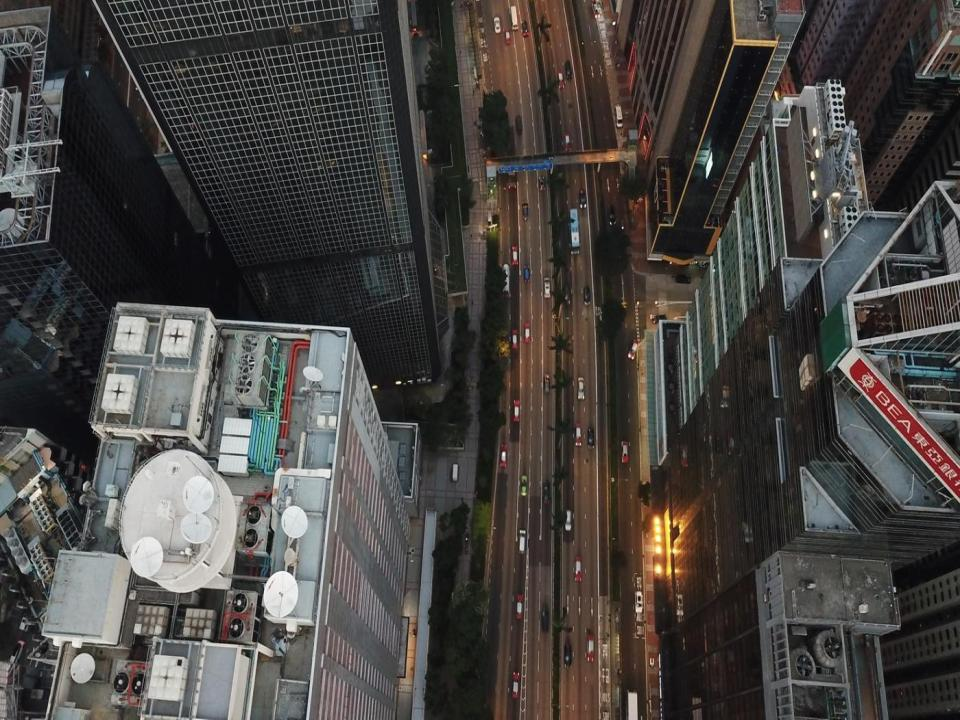bus: (614, 104, 622, 127)
car: (628, 339, 639, 360), (586, 634, 594, 661), (541, 608, 549, 632), (564, 644, 572, 668), (577, 376, 585, 399), (634, 590, 642, 613), (574, 424, 582, 446), (543, 478, 550, 503), (512, 672, 519, 697), (513, 398, 520, 422), (564, 60, 572, 80), (608, 204, 616, 224), (500, 444, 507, 466), (574, 558, 581, 580), (543, 277, 550, 298), (556, 70, 564, 88), (516, 594, 522, 618), (587, 428, 594, 448), (621, 442, 628, 462), (521, 202, 529, 219), (515, 115, 522, 134), (521, 21, 529, 37), (511, 329, 518, 347), (520, 475, 526, 496), (564, 132, 571, 150), (579, 190, 586, 208), (652, 314, 666, 323), (524, 322, 530, 342), (564, 285, 570, 305), (512, 246, 518, 265), (503, 28, 510, 44), (494, 16, 500, 33), (524, 265, 530, 281), (544, 374, 549, 391), (539, 175, 544, 190)
truck: (568, 208, 580, 253), (510, 6, 518, 30), (508, 166, 516, 187)
van: (518, 529, 526, 554), (564, 509, 572, 530), (591, 1, 599, 17), (676, 274, 690, 283), (584, 286, 590, 304)
